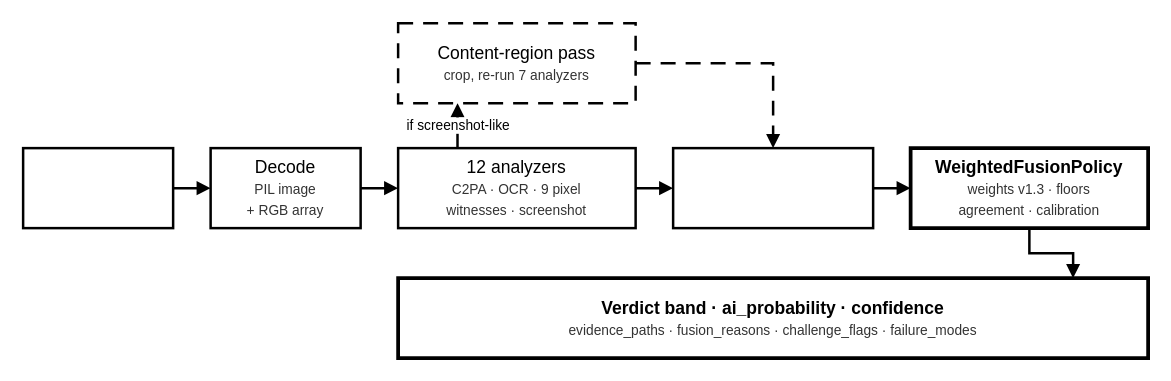
Image size: 1171x381. Some labels were removed from this diagram. Each missing label, with the centre of its shape:
"Degradation probes JPEG Q=75 / Q=85" goes at point (772, 187).
"Image bytes" goes at point (97, 187).
